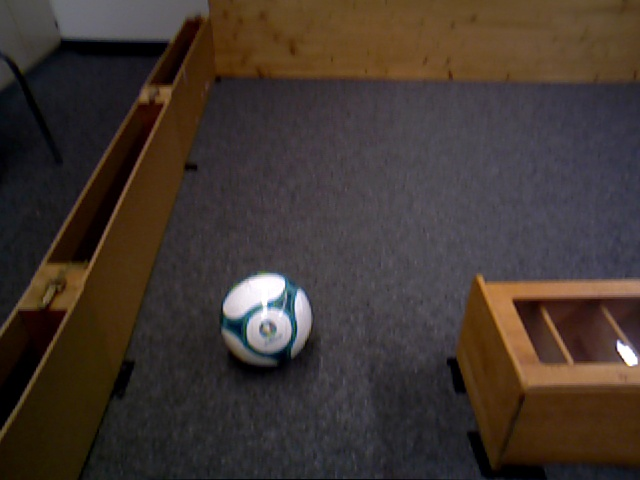kick: (221, 270, 314, 370)
